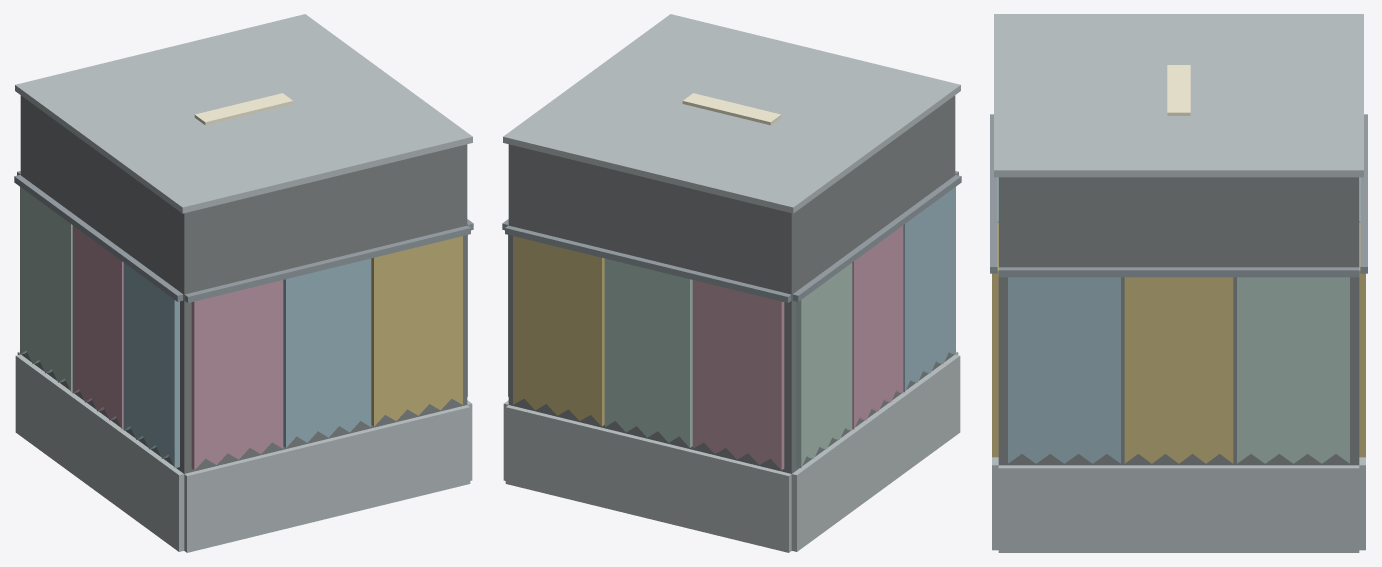
Rendered from wall_b.fbx.
3 renders of one model, left to right at view 1: azimuth 30°, elevation 25°; view 2: azimuth 150°, elevation 25°; view 3: azimuth 270°, elevation 25°, orthographic. The views are drawn at different scales.
Parts seen in each view (by area): view 1: wall_b; view 2: wall_b; view 3: wall_b.
Part boxes in pixels (box(x1,y1,x2,y2)): wall_b: box(14, 14, 473, 552); wall_b: box(502, 14, 961, 552); wall_b: box(990, 14, 1367, 552).
Size of the model in its own units: 4 by 4.5 by 4.
